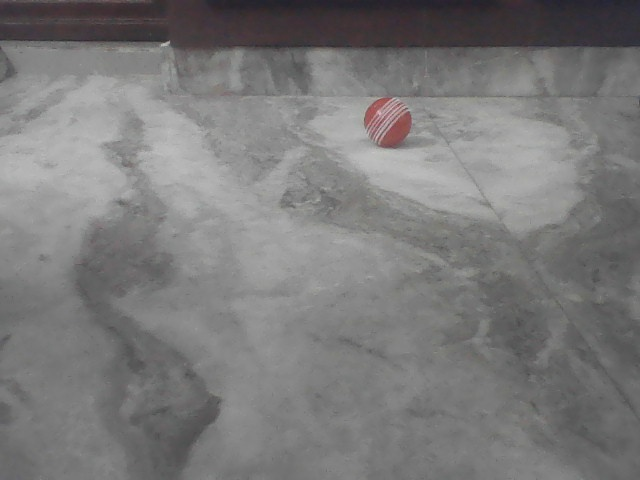cricket_ball: (363, 94, 421, 150)
